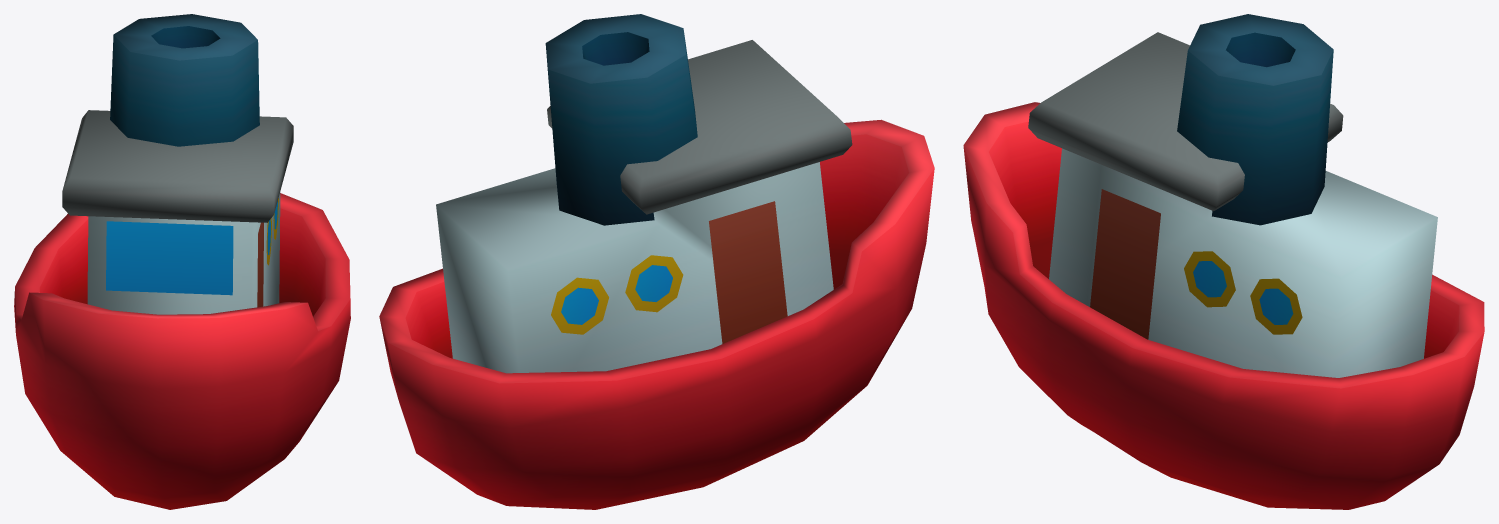
File: Boat.fbx
The picture shows the model from 3 angles, left to right: view 1: azimuth 30°, elevation 25°; view 2: azimuth 150°, elevation 25°; view 3: azimuth 270°, elevation 25°; orthographic projection. The views are drawn at different scales.
Visible parts, largest first — view 1: Boat; view 2: Boat; view 3: Boat.
Boxes of the visible parts, <box> form: Boat: <box>14,14,350,509</box>; Boat: <box>379,14,934,509</box>; Boat: <box>963,14,1484,509</box>.
Size of the model in its own units: 1891 by 2041 by 2177.
1 material, 1 textured.
